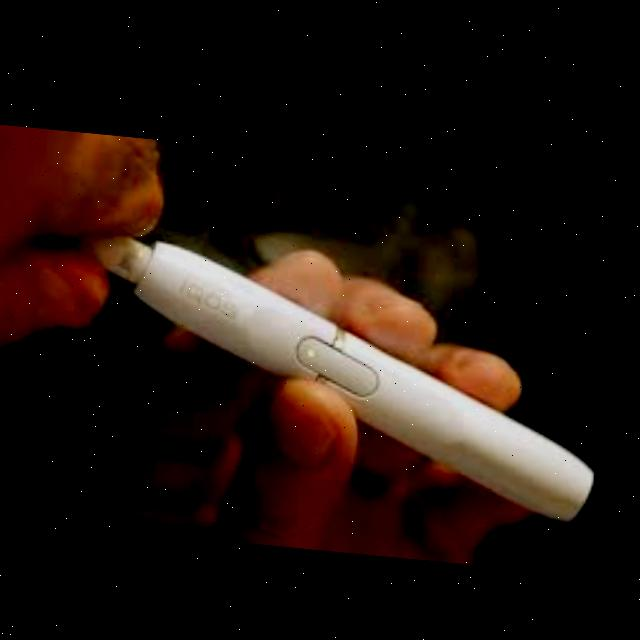vape: (69, 225, 608, 512)
